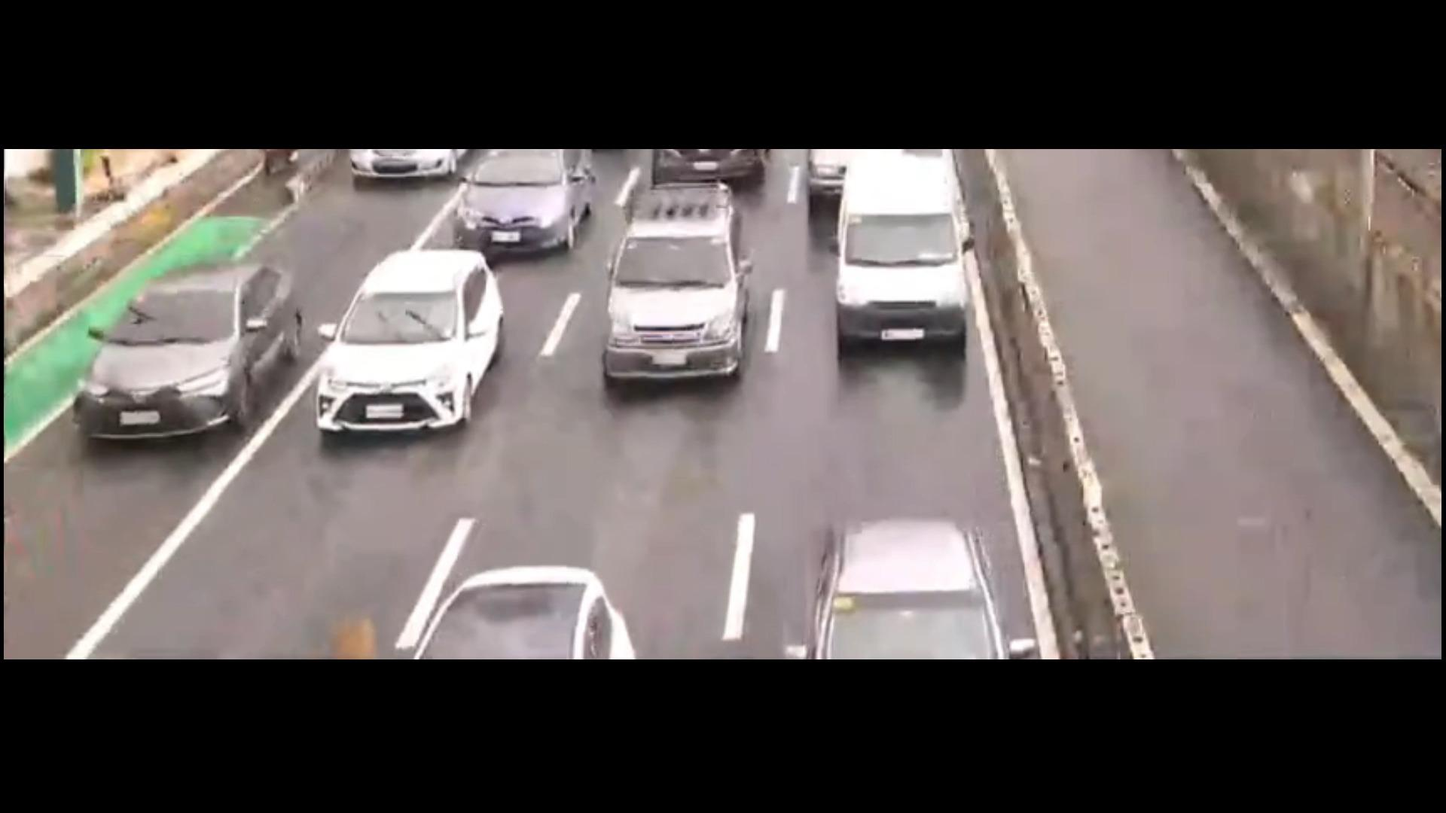SUV: (49, 241, 311, 477), (275, 251, 533, 450), (581, 179, 763, 440)
Sedan: (445, 145, 595, 264)
Truck: (810, 153, 996, 389)
